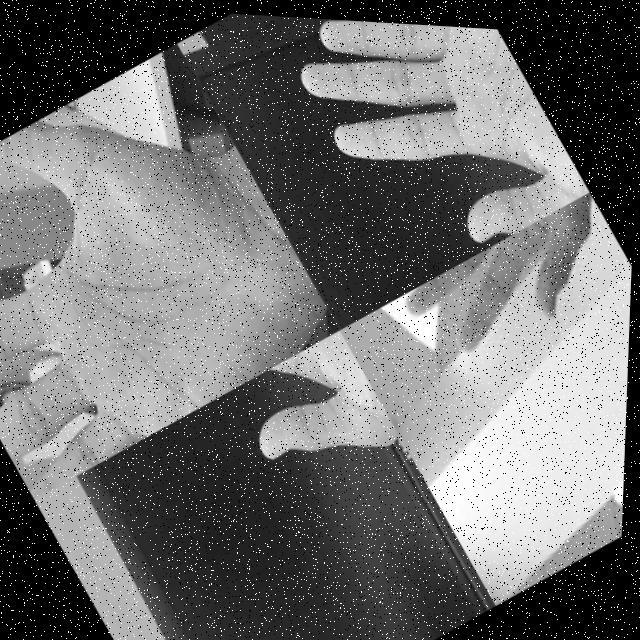no-gloves: (0, 31, 349, 510), (241, 12, 594, 290), (164, 316, 437, 588), (396, 174, 636, 395)
